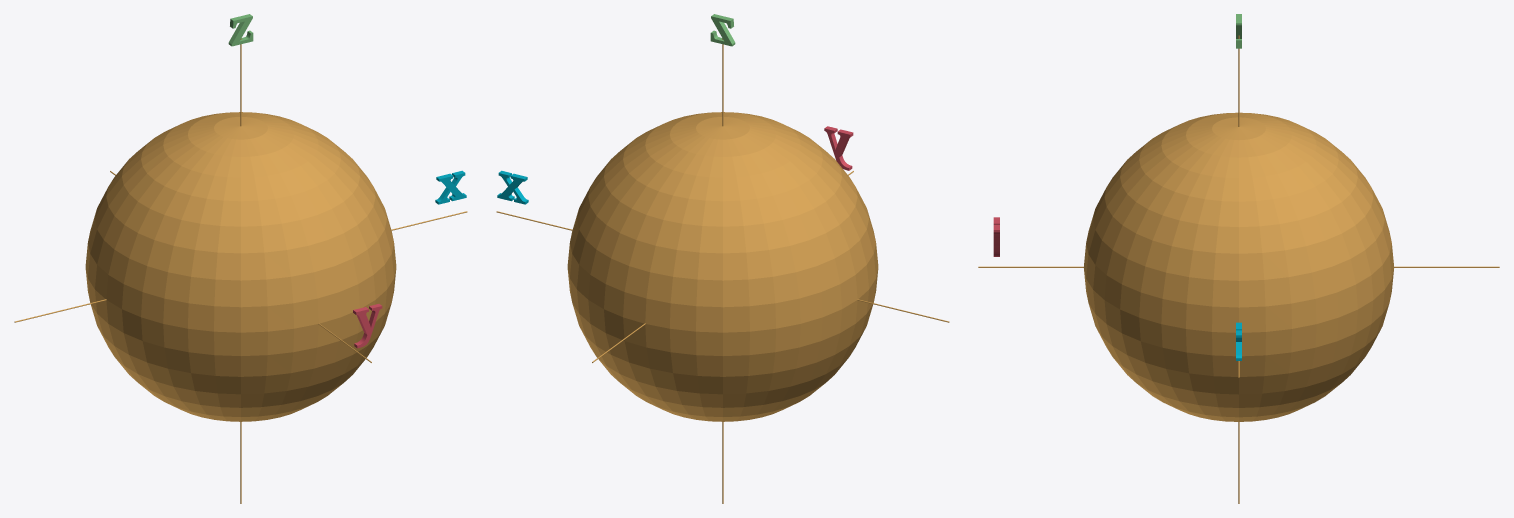
The picture shows the model from 3 angles, left to right: view 1: azimuth 30°, elevation 25°; view 2: azimuth 150°, elevation 25°; view 3: azimuth 270°, elevation 25°; orthographic projection.
Parts seen in each view (by area): view 1: Mesh_Mesh_head_geo.001_lambert2SG.001; view 2: Mesh_Mesh_head_geo.001_lambert2SG.001; view 3: Mesh_Mesh_head_geo.001_lambert2SG.001.
Boxes of the visible parts, x1,y1,x2,y2 form: Mesh_Mesh_head_geo.001_lambert2SG.001: (14, 14, 467, 503); Mesh_Mesh_head_geo.001_lambert2SG.001: (496, 14, 949, 503); Mesh_Mesh_head_geo.001_lambert2SG.001: (978, 14, 1499, 503).
Size of the model in its own units: 84 by 86.23 by 84.
